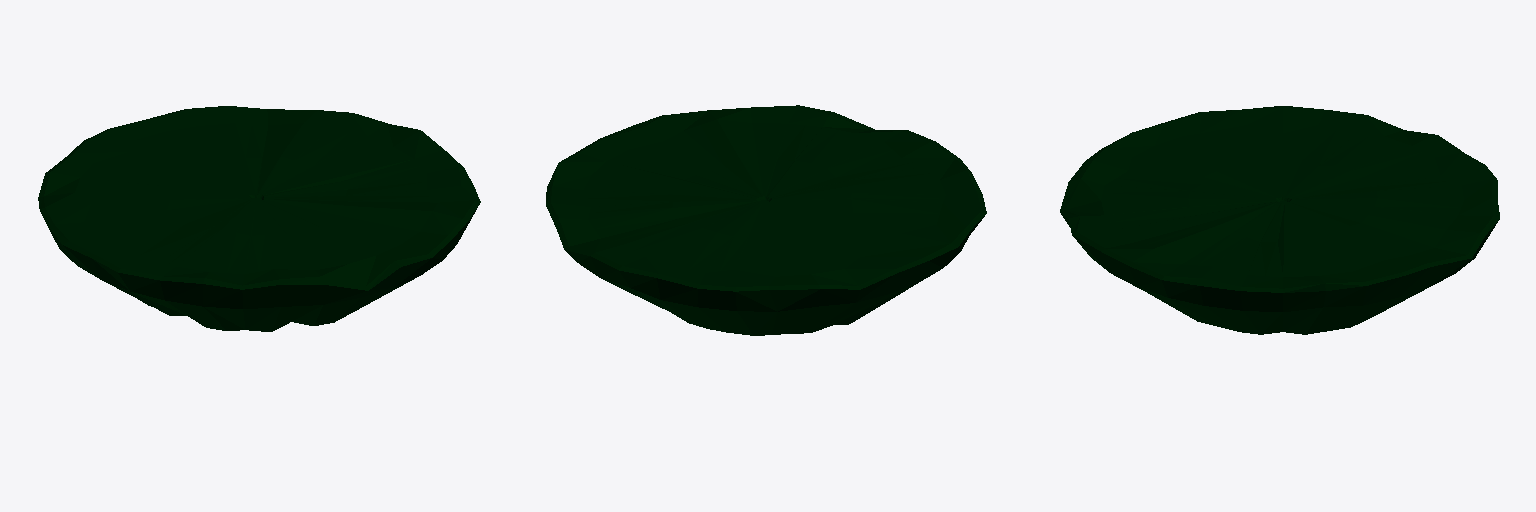
The model's file is island.obj.
3 renders of one model, left to right at view 1: azimuth 30°, elevation 25°; view 2: azimuth 150°, elevation 25°; view 3: azimuth 270°, elevation 25°, orthographic.
Visible parts, largest first — view 1: Circle; view 2: Circle; view 3: Circle.
Boxes of the visible parts, x1=… form: Circle: x1=38, y1=106, x2=480, y2=331; Circle: x1=546, y1=105, x2=986, y2=335; Circle: x1=1060, y1=106, x2=1499, y2=334.
Bounding box in the file's own units: 99.75 × 31.73 × 99.12.